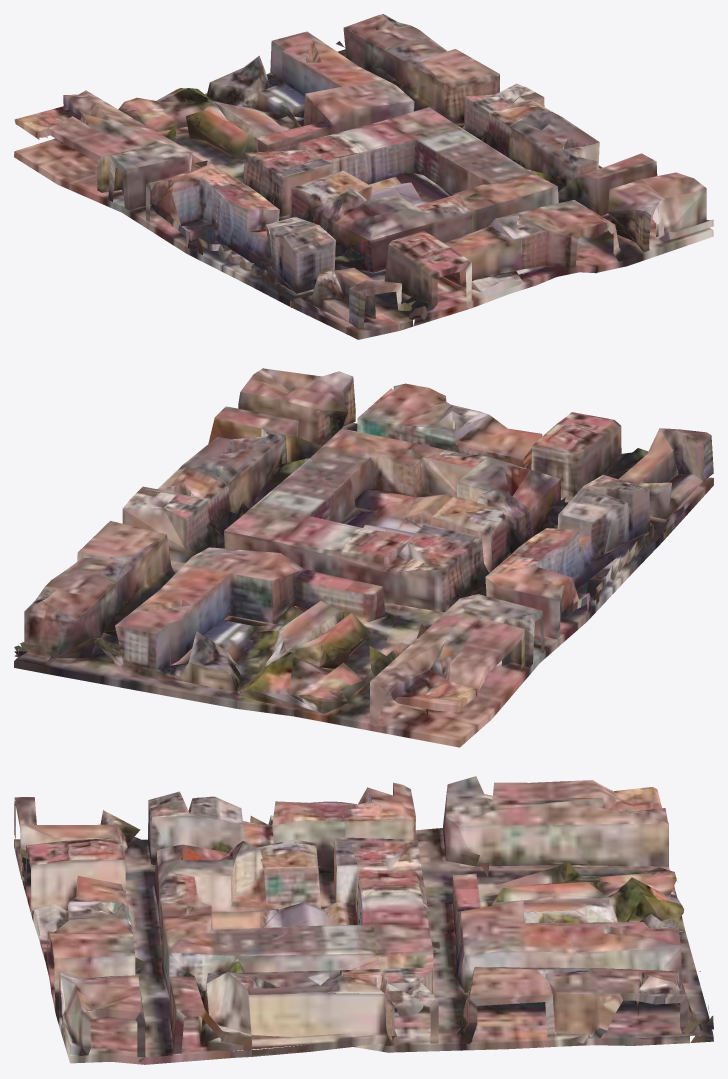
3 views of the same model, one above another, from view 1: azimuth 30°, elevation 25°; view 2: azimuth 150°, elevation 25°; view 3: azimuth 270°, elevation 25° (orthographic). The views are drawn at different scales.
Visible parts, largest first — view 1: Mesh_0; view 2: Mesh_0; view 3: Mesh_0.
Boxes of the visible parts, x1,y1,x2,y2 form: Mesh_0: (14,14,713,339); Mesh_0: (14,368,713,747); Mesh_0: (14,776,713,1064).
Bounding box in the file's own units: 266 × 38.5 × 330.
2 materials, 2 textured.
